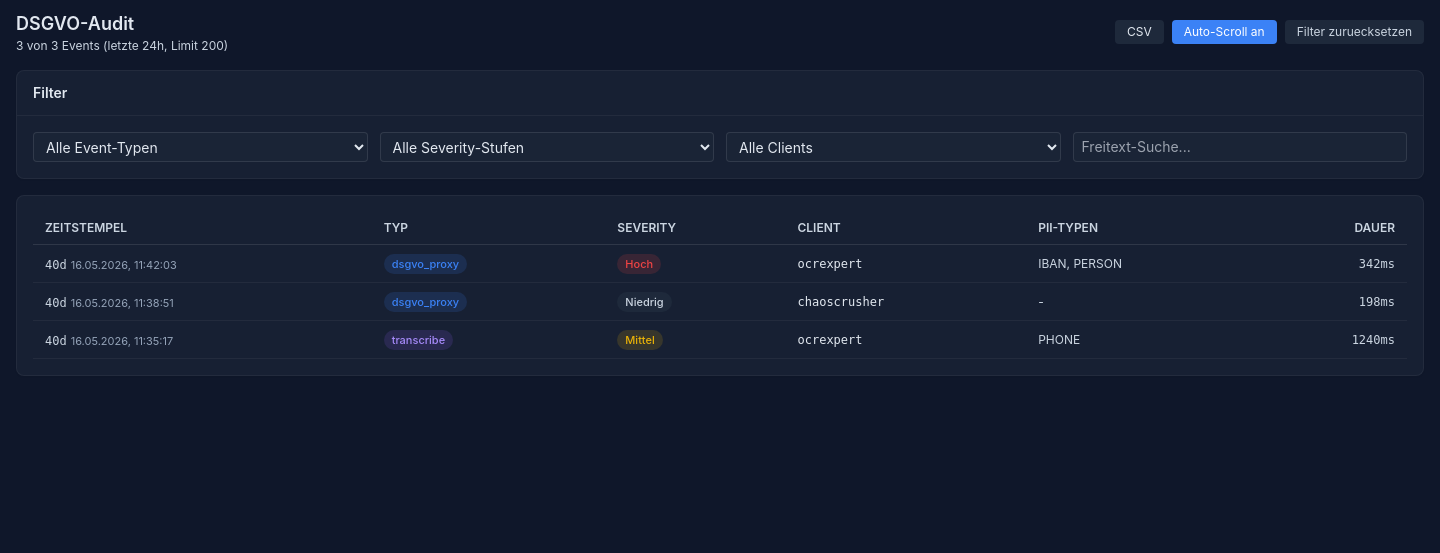
Test case: AuditTab › Row-Expand: Klick auf Zeile zeigt Payload-Details
The width and height of the screenshot is (1440, 553).
What coordinates should you click on to do the following:
click the row with test id "audit-row-aaa-001"
I would click on:
 (720, 264)
Its box is [33, 244, 1407, 282].
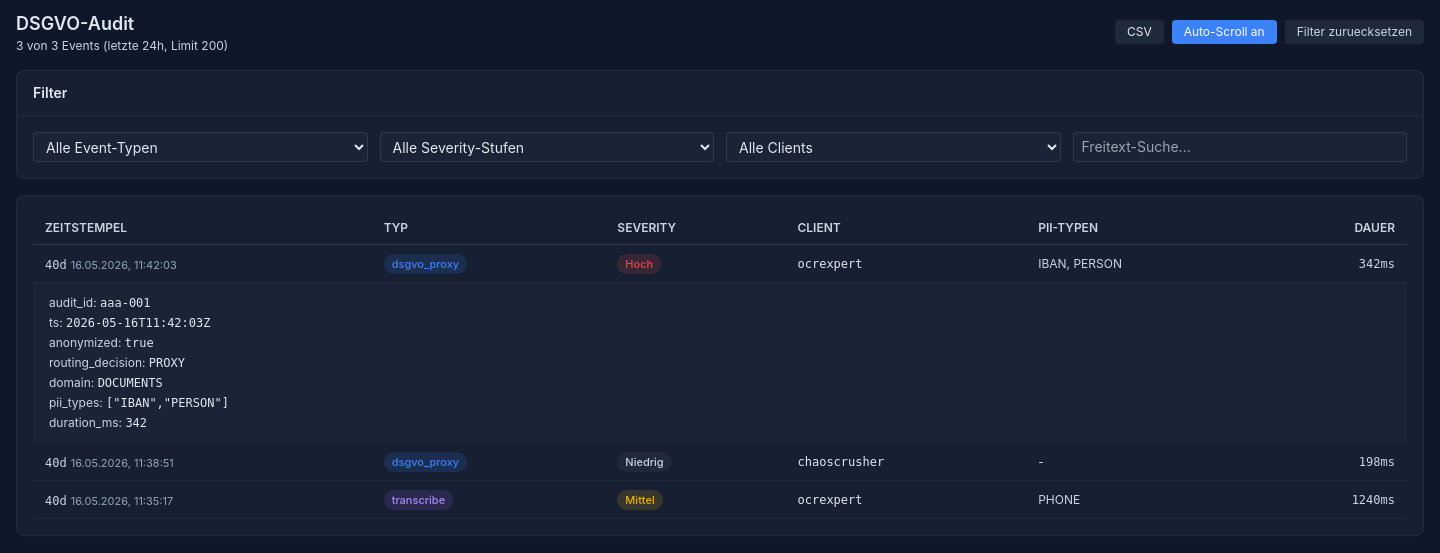
Expected: the row with test id "audit-row-expanded-aaa-001" is shown, [33, 282, 1407, 443]
Expected: the text "aaa-001" is shown, [100, 296, 151, 310]
